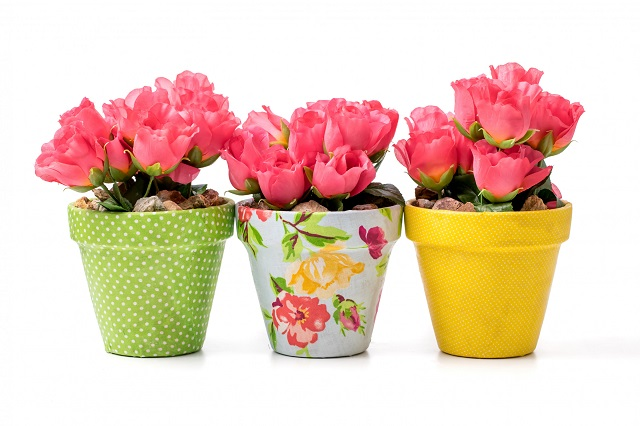plant: (35, 67, 236, 357), (408, 63, 584, 357), (236, 99, 404, 359)
